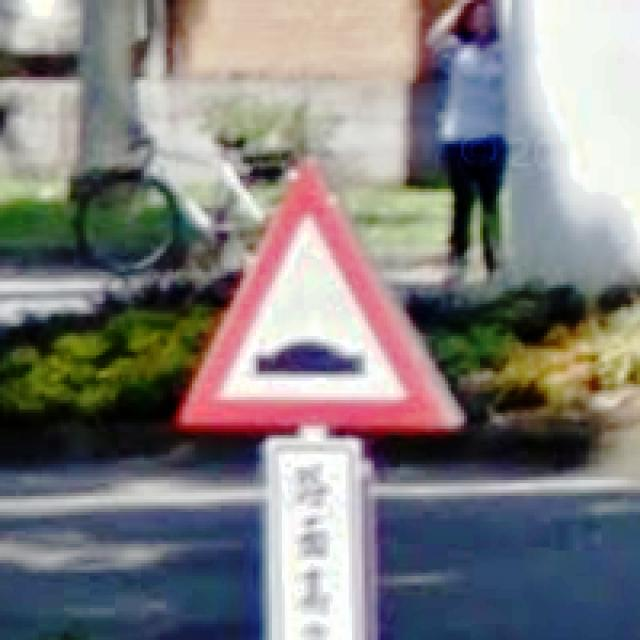hump: (179, 167, 449, 425)
